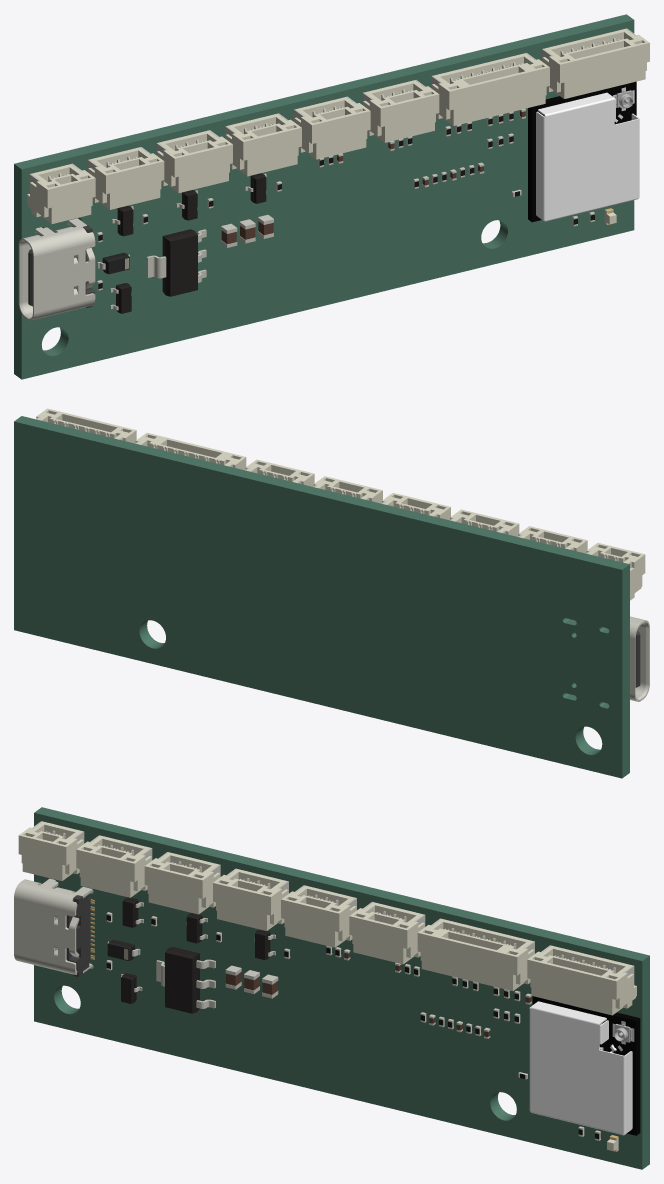
File: board.glb
The picture shows the model from 3 angles, top to bottom: view 1: azimuth 30°, elevation 25°; view 2: azimuth 150°, elevation 25°; view 3: azimuth 330°, elevation 25°; orthographic projection.
Parts seen in each view (by area): view 1: =>[0:1:1:28], =>[0:1:1:21]_c2cc54, =>[0:1:1:27]_ee140f, =>[0:1:1:17]_9f255c, =>[0:1:1:23]_cedae1, =>[0:1:1:7]_1_15b116, =>[0:1:1:7]_3_355db3, =>[0:1:1:7]_bcd35f, =>[0:1:1:7]_4_c30e67, =>[0:1:1:7]_2_7d72ca, =>[0:1:1:25]_b958ea, =>[0:1:1:11]_b81527 (+2 smaller); view 2: =>[0:1:1:28], =>[0:1:1:17]_9f255c, =>[0:1:1:27]_ee140f, =>[0:1:1:23]_cedae1, =>[0:1:1:25]_b958ea, =>[0:1:1:7]_4_c30e67, =>[0:1:1:7]_3_355db3, =>[0:1:1:7]_1_15b116, =>[0:1:1:7]_bcd35f, =>[0:1:1:7]_2_7d72ca; view 3: =>[0:1:1:28], =>[0:1:1:21]_c2cc54, =>[0:1:1:17]_9f255c, =>[0:1:1:23]_cedae1, =>[0:1:1:27]_ee140f, =>[0:1:1:7]_4_c30e67, =>[0:1:1:7]_1_15b116, =>[0:1:1:7]_bcd35f, =>[0:1:1:7]_3_355db3, =>[0:1:1:7]_2_7d72ca, =>[0:1:1:25]_b958ea, =>[0:1:1:11]_b81527 (+3 smaller).
Part boxes in pixels (bbox=[...]): =>[0:1:1:28]: bbox=[14, 14, 634, 379]; =>[0:1:1:21]_c2cc54: bbox=[536, 92, 639, 221]; =>[0:1:1:27]_ee140f: bbox=[18, 218, 95, 320]; =>[0:1:1:17]_9f255c: bbox=[431, 53, 549, 125]; =>[0:1:1:23]_cedae1: bbox=[542, 29, 649, 98]; =>[0:1:1:7]_1_15b116: bbox=[88, 147, 164, 209]; =>[0:1:1:7]_3_355db3: bbox=[363, 80, 439, 142]; =>[0:1:1:7]_bcd35f: bbox=[294, 97, 370, 159]; =>[0:1:1:7]_4_c30e67: bbox=[157, 130, 232, 192]; =>[0:1:1:7]_2_7d72ca: bbox=[225, 114, 301, 176]; =>[0:1:1:25]_b958ea: bbox=[27, 164, 95, 223]; =>[0:1:1:11]_b81527: bbox=[162, 229, 197, 296]; =>[0:1:1:28]: bbox=[14, 416, 629, 778]; =>[0:1:1:17]_9f255c: bbox=[135, 433, 246, 470]; =>[0:1:1:27]_ee140f: bbox=[571, 616, 649, 703]; =>[0:1:1:23]_cedae1: bbox=[36, 408, 136, 443]; =>[0:1:1:25]_b958ea: bbox=[586, 542, 645, 600]; =>[0:1:1:7]_4_c30e67: bbox=[450, 509, 519, 536]; =>[0:1:1:7]_3_355db3: bbox=[245, 459, 314, 486]; =>[0:1:1:7]_1_15b116: bbox=[518, 526, 587, 553]; =>[0:1:1:7]_bcd35f: bbox=[313, 476, 382, 503]; =>[0:1:1:7]_2_7d72ca: bbox=[382, 493, 450, 520]; =>[0:1:1:28]: bbox=[34, 807, 649, 1169]; =>[0:1:1:21]_c2cc54: bbox=[529, 1001, 632, 1135]; =>[0:1:1:17]_9f255c: bbox=[417, 919, 534, 990]; =>[0:1:1:23]_cedae1: bbox=[527, 945, 636, 1015]; =>[0:1:1:27]_ee140f: bbox=[14, 878, 92, 974]; =>[0:1:1:7]_4_c30e67: bbox=[144, 852, 220, 914]; =>[0:1:1:7]_1_15b116: bbox=[76, 835, 151, 897]; =>[0:1:1:7]_bcd35f: bbox=[281, 885, 356, 947]; =>[0:1:1:7]_3_355db3: bbox=[349, 902, 424, 964]; =>[0:1:1:7]_2_7d72ca: bbox=[213, 869, 288, 930]; =>[0:1:1:25]_b958ea: bbox=[18, 821, 83, 880]; =>[0:1:1:11]_b81527: bbox=[165, 946, 199, 1013].
Bounding box in the file's own units: 73.69 × 24 × 5.89.
